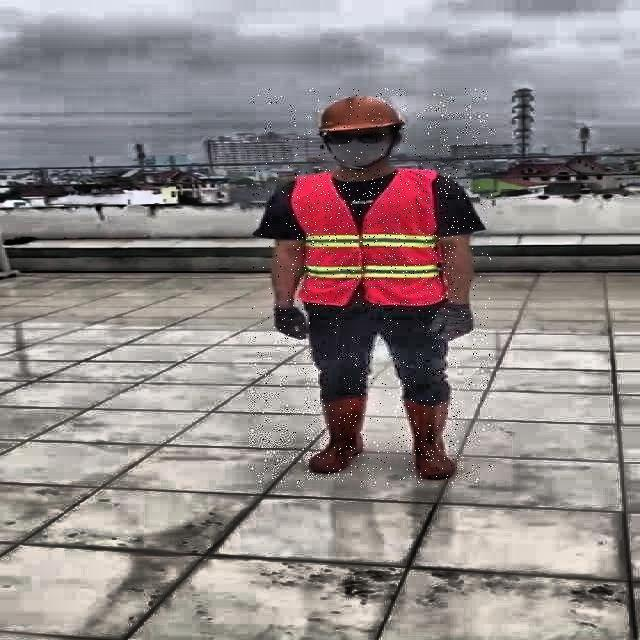safety_helmet: (316, 94, 408, 132)
safety_jacket: (293, 169, 459, 306)
